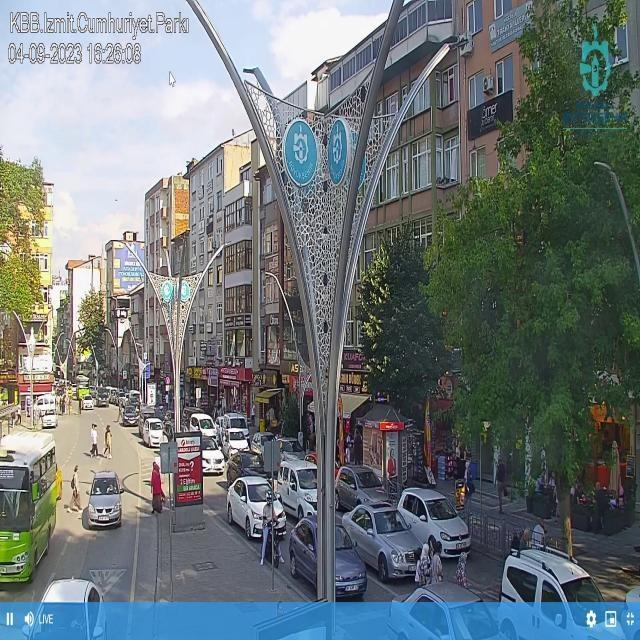Bus: (0, 430, 59, 586)
Car: (494, 543, 621, 634), (343, 501, 428, 582), (286, 513, 366, 598), (389, 592, 501, 640), (396, 488, 470, 560), (28, 580, 105, 637), (227, 476, 287, 540), (334, 464, 389, 514), (277, 458, 320, 521), (84, 471, 125, 532), (227, 450, 270, 489), (199, 435, 226, 474), (222, 428, 250, 460), (249, 431, 278, 460), (140, 417, 164, 447), (40, 408, 58, 428), (122, 406, 139, 426), (82, 396, 94, 410)
